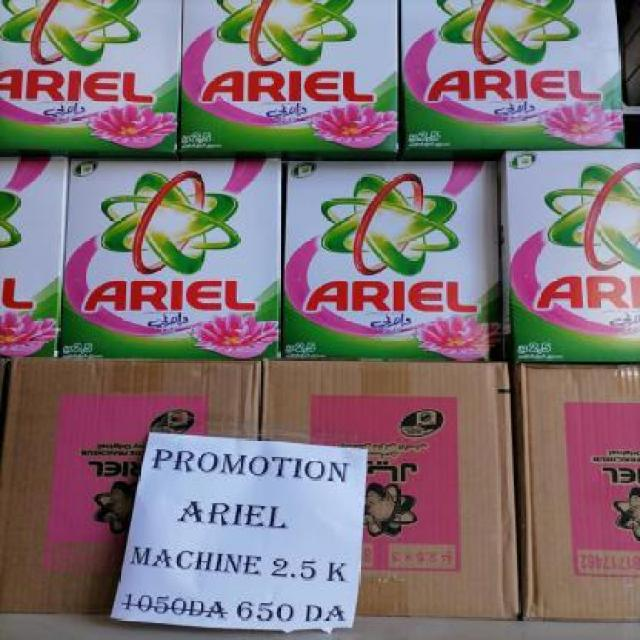Detergent: (65, 148, 288, 355), (283, 156, 506, 362), (178, 0, 400, 160), (400, 0, 621, 152), (501, 148, 639, 368), (0, 0, 179, 152)
